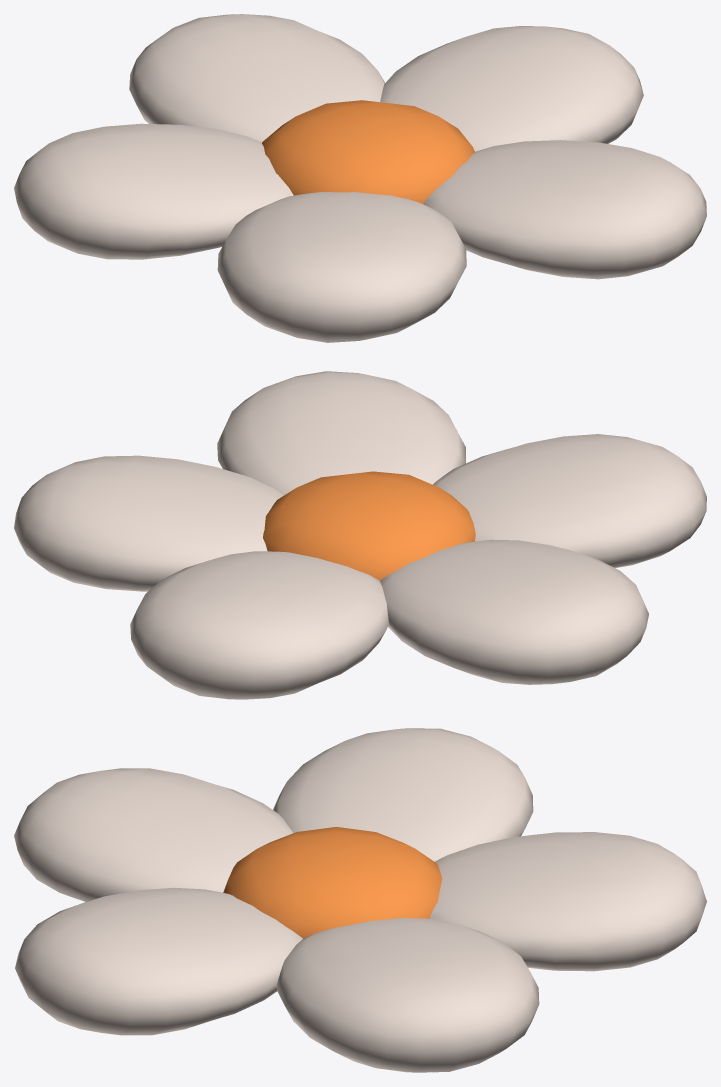
Rendered from Pillow_flower_2.glb.
3 views of the same model, one above another, from view 1: azimuth 30°, elevation 25°; view 2: azimuth 150°, elevation 25°; view 3: azimuth 270°, elevation 25° (orthographic). The views are drawn at different scales.
Parts seen in each view (by area): view 1: Pillow_flower_2; view 2: Pillow_flower_2; view 3: Pillow_flower_2.
Part boxes in pixels (x1,y1,x2,y2): Pillow_flower_2: (14, 14, 706, 342); Pillow_flower_2: (14, 371, 706, 699); Pillow_flower_2: (14, 728, 706, 1072).
Bounding box in the file's own units: 0.7787 × 0.1179 × 0.7524.
1 material, 1 textured.
